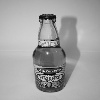beer: (32, 11, 69, 94)
